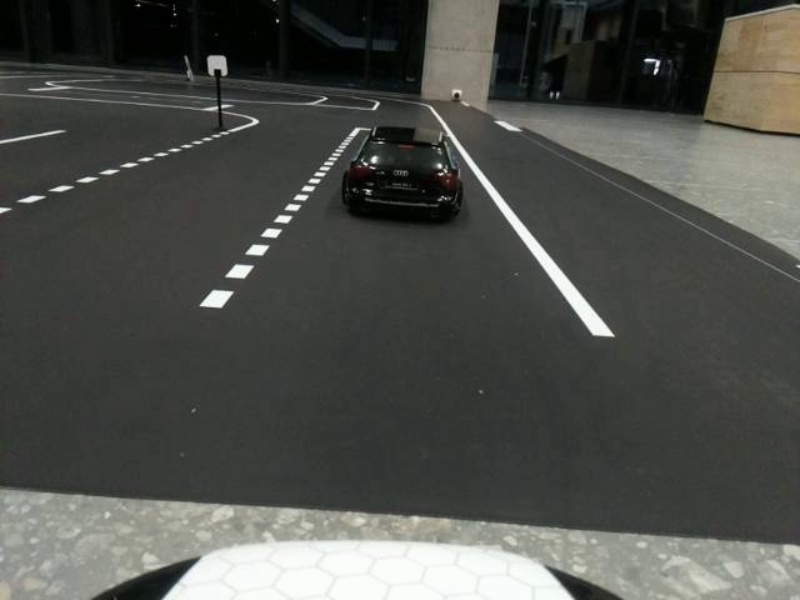car: (329, 113, 473, 239)
